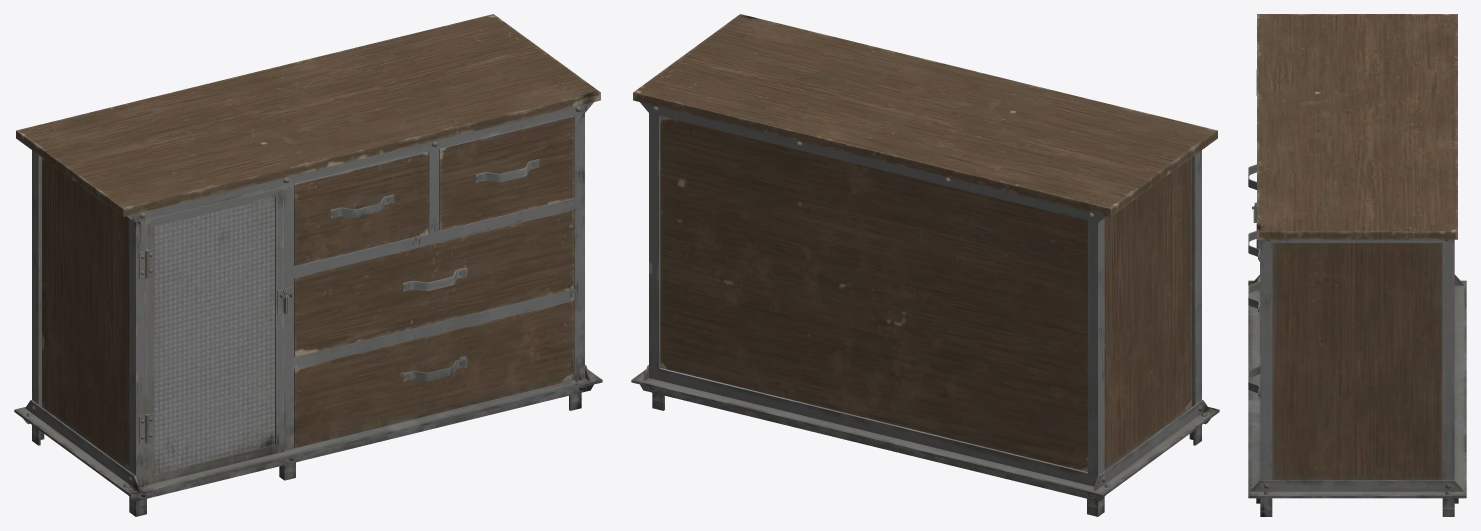
Rendered from woodentable_03.glb.
3 views of the same model, side by side, from view 1: azimuth 30°, elevation 25°; view 2: azimuth 150°, elevation 25°; view 3: azimuth 270°, elevation 25° (orthographic). The views are drawn at different scales.
Parts seen in each view (by area): view 1: WoodenTable_03_body, WoodenTable_03_door, WoodenTable_03_drawer04, WoodenTable_03_drawer03, WoodenTable_03_drawer02, WoodenTable_03_drawer01; view 2: WoodenTable_03_body; view 3: WoodenTable_03_body.
Boxes of the visible parts, x1,y1,x2,y2 form: WoodenTable_03_body: (14, 14, 602, 516); WoodenTable_03_door: (145, 186, 292, 485); WoodenTable_03_drawer04: (294, 300, 574, 448); WoodenTable_03_drawer03: (294, 209, 574, 357); WoodenTable_03_drawer02: (439, 116, 574, 230); WoodenTable_03_drawer01: (294, 151, 428, 266); WoodenTable_03_body: (631, 14, 1219, 516); WoodenTable_03_body: (1248, 14, 1466, 516).
Bounding box in the file's own units: 1.33 × 0.83 × 0.5618.
1 material, 1 textured.
